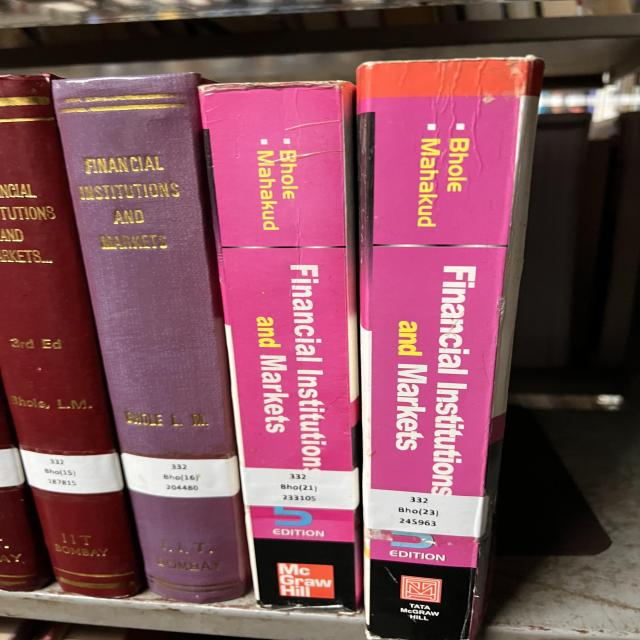Book: (357, 56, 543, 640), (53, 74, 250, 604), (200, 81, 362, 610), (0, 75, 142, 598)
Label: (363, 489, 488, 538), (122, 452, 240, 498), (240, 466, 360, 510), (20, 449, 123, 494)
